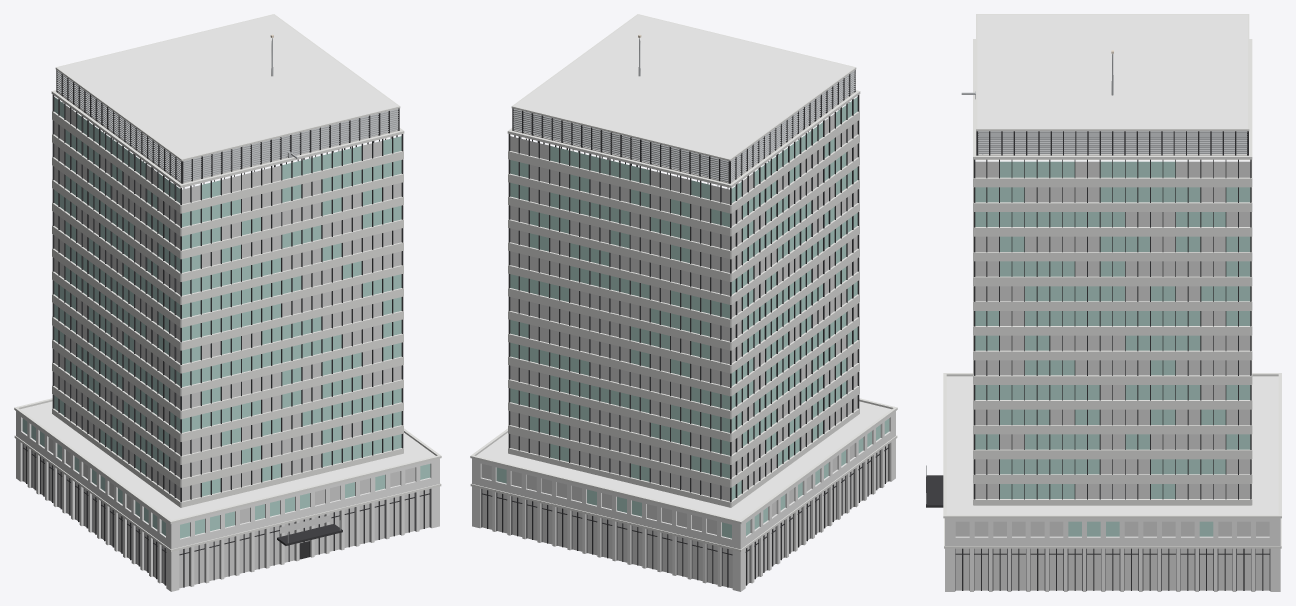
File: tower_p230a.glb
3 views of the same model, side by side, from view 1: azimuth 30°, elevation 25°; view 2: azimuth 150°, elevation 25°; view 3: azimuth 270°, elevation 25° (orthographic). The views are drawn at different scales.
Visible parts, largest first — view 1: tower_p230a_Walls, tower_p230a_Glass, tower_p230a_WindowsLit, tower_p230a_Roof, tower_p230a_Frames, tower_p230a_Walls2, tower_p230a_Trim, tower_p230a_Details, tower_p230a_Accent; view 2: tower_p230a_Walls, tower_p230a_WindowsLit, tower_p230a_Glass, tower_p230a_Roof, tower_p230a_Frames, tower_p230a_Walls2, tower_p230a_Trim, tower_p230a_Details; view 3: tower_p230a_Roof, tower_p230a_Walls, tower_p230a_WindowsLit, tower_p230a_Glass, tower_p230a_Frames, tower_p230a_Walls2, tower_p230a_Trim, tower_p230a_Details, tower_p230a_Accent.
Part boxes in pixels (x1=…): tower_p230a_Walls: x1=52, y1=92, x2=403, y2=507; tower_p230a_Glass: x1=22, y1=97, x2=430, y2=538; tower_p230a_WindowsLit: x1=23, y1=105, x2=429, y2=588; tower_p230a_Roof: x1=20, y1=14, x2=435, y2=520; tower_p230a_Frames: x1=22, y1=70, x2=430, y2=587; tower_p230a_Walls2: x1=16, y1=411, x2=439, y2=591; tower_p230a_Trim: x1=14, y1=14, x2=441, y2=551; tower_p230a_Details: x1=56, y1=38, x2=398, y2=542; tower_p230a_Accent: x1=277, y1=524, x2=342, y2=545; tower_p230a_Walls: x1=508, y1=91, x2=859, y2=507; tower_p230a_WindowsLit: x1=481, y1=114, x2=888, y2=588; tower_p230a_Glass: x1=496, y1=97, x2=889, y2=538; tower_p230a_Roof: x1=476, y1=14, x2=891, y2=520; tower_p230a_Frames: x1=481, y1=70, x2=889, y2=587; tower_p230a_Walls2: x1=472, y1=411, x2=895, y2=591; tower_p230a_Trim: x1=470, y1=14, x2=897, y2=551; tower_p230a_Details: x1=513, y1=38, x2=855, y2=182; tower_p230a_Roof: x1=946, y1=14, x2=1278, y2=514; tower_p230a_Walls: x1=973, y1=154, x2=1252, y2=505; tower_p230a_WindowsLit: x1=955, y1=161, x2=1269, y2=590; tower_p230a_Glass: x1=975, y1=161, x2=1250, y2=536; tower_p230a_Frames: x1=955, y1=131, x2=1270, y2=590; tower_p230a_Walls2: x1=945, y1=518, x2=1280, y2=591; tower_p230a_Trim: x1=943, y1=14, x2=1281, y2=548; tower_p230a_Details: x1=926, y1=53, x2=1247, y2=503; tower_p230a_Accent: x1=926, y1=475, x2=943, y2=507.
Size of the model in its own units: 161 by 260 by 170.
